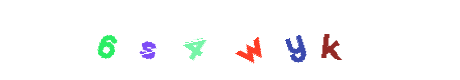4: (190, 0, 270, 80)
6: (67, 0, 147, 80)
K: (289, 0, 369, 80)
S: (158, 0, 238, 80)
W: (202, 0, 282, 80)
Y: (221, 0, 301, 80)
